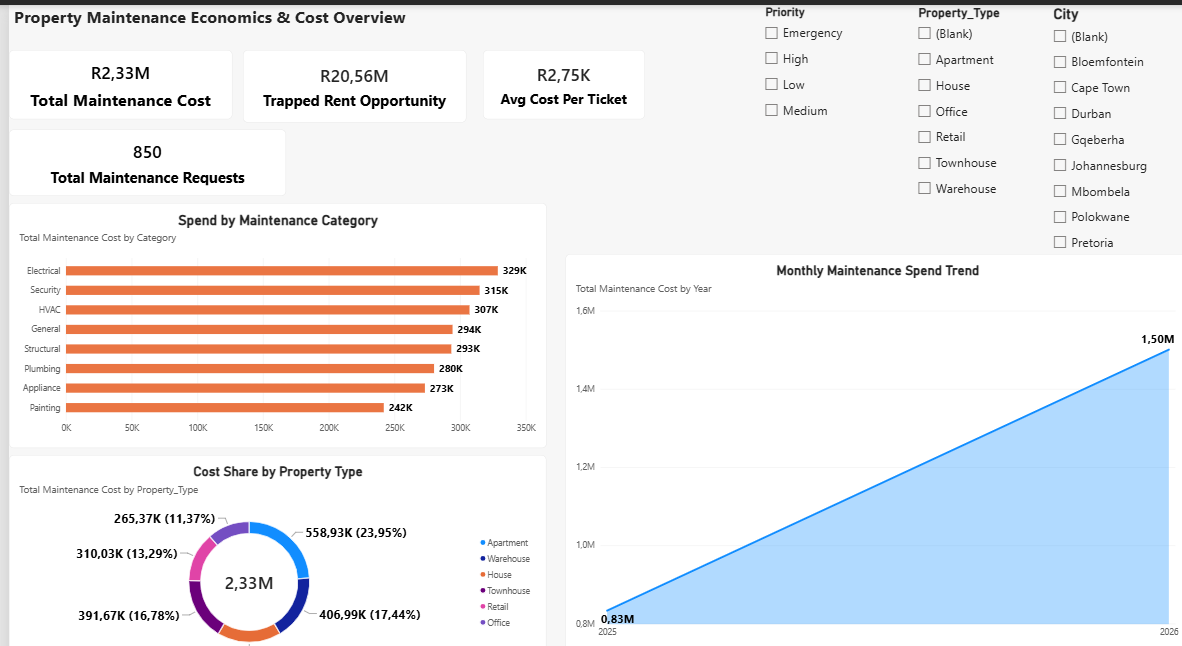

This screenshot's page, from the dashboard's own definition file:
{"tool":"powerbi","page":{"name":"Executive Maintenance Overview","canvas":[1920,1080],"ordinal":0},"visuals":[{"type":"textbox","box":[0,0,653.9,60.1],"z":0},{"type":"slicer","fields":{"Values":["Properties.City"]},"box":[1690.8,0,229.3,405],"z":1000},{"type":"slicer","fields":{"Values":["Properties.Property_Type"]},"box":[1471.2,0,197.6,322.1],"z":2000},{"type":"slicer","fields":{"Values":["Maintenance.Priority"]},"box":[1222.3,0,231.8,202.5],"z":3000},{"type":"card","fields":{"Values":["_Key Measures.Total Maintenance Cost"]},"box":[0,72.7,363.3,112.7],"z":4000},{"type":"card","fields":{"Values":["_Key Measures.Total Maintenance Requests"]},"box":[0,202.9,451,107.7],"z":5000},{"type":"card","fields":{"Values":["_Key Measures.Avg Cost Per Ticket"]},"box":[771.7,72.7,263.1,112.7],"z":6000},{"type":"card","fields":{"Values":["_Key Measures.Trapped Rent Opportunity"]},"box":[380.8,72.7,363.3,117.8],"z":7000},{"type":"clusteredBarChart","title":"Spend by Maintenance Category","fields":{"Category":["Maintenance.Category"],"Y":["_Key Measures.Total Maintenance Cost"]},"box":[0,323.2,874.4,398.4],"z":8000},{"type":"areaChart","title":"Monthly Maintenance Spend Trend","fields":{"Category":["Maintenance.Request_Date.Variation.Date Hierarchy.Year","Maintenance.Request_Date.Variation.Date Hierarchy.Quarter","Maintenance.Request_Date.Variation.Date Hierarchy.Month","Maintenance.Request_Date.Variation.Date Hierarchy.Day"],"Y":["_Key Measures.Total Maintenance Cost"]},"box":[904.5,405.9,1014.7,646.4],"z":9000},{"type":"donutChart","title":"Cost Share by Property Type","fields":{"Category":["Properties.Property_Type"],"Y":["_Key Measures.Total Maintenance Cost"]},"box":[0,731,874,349],"z":10000}]}

Visuals, with their boxes in screenshot pixels (x1, y1, x2, y2), scaled from the page's 1920x1080 canvas onto the 1182x646 screenshot:
textbox: <box>0,0,403,36</box>
slicer - Properties.City: <box>1041,0,1181,242</box>
slicer - Properties.Property_Type: <box>906,0,1027,193</box>
slicer - Maintenance.Priority: <box>752,0,895,121</box>
card - _Key Measures.Total Maintenance Cost: <box>0,43,224,111</box>
card - _Key Measures.Total Maintenance Requests: <box>0,121,278,186</box>
card - _Key Measures.Avg Cost Per Ticket: <box>475,43,637,111</box>
card - _Key Measures.Trapped Rent Opportunity: <box>234,43,458,114</box>
"Spend by Maintenance Category" clusteredBarChart: <box>0,193,538,432</box>
"Monthly Maintenance Spend Trend" areaChart: <box>557,243,1181,629</box>
"Cost Share by Property Type" donutChart: <box>0,437,538,645</box>
